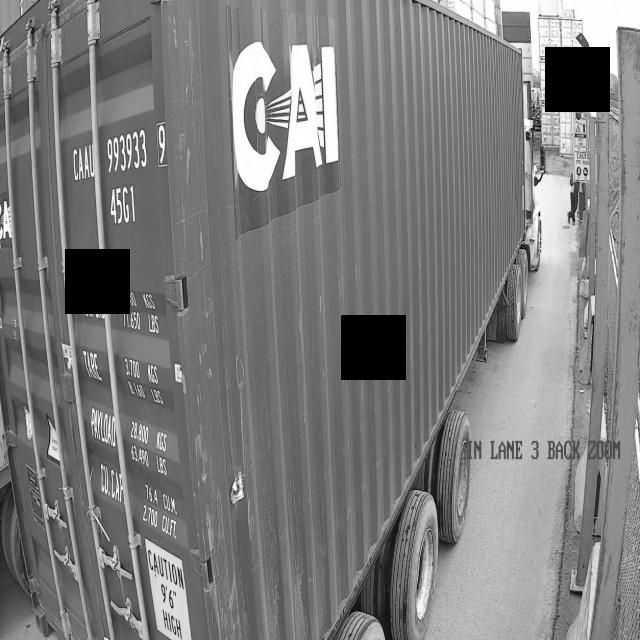container_company_logo: (219, 3, 374, 228)
container_number: (65, 100, 190, 639)
truck_with_container: (0, 0, 545, 640)
